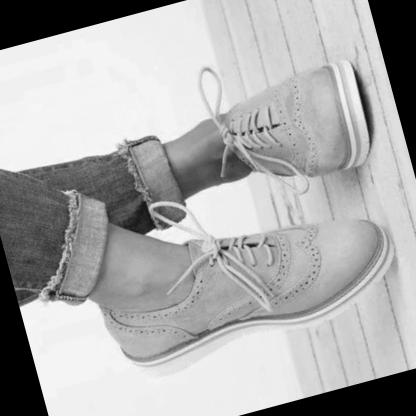ankle: (177, 303, 182, 308), (232, 122, 236, 127)
heel: (124, 346, 129, 352), (288, 172, 291, 175)
left_foot: (89, 188, 416, 389)
pinky: (342, 220, 346, 225), (336, 163, 339, 166)
right_foot: (216, 55, 381, 198)
toe: (370, 254, 376, 260), (325, 74, 330, 79)
